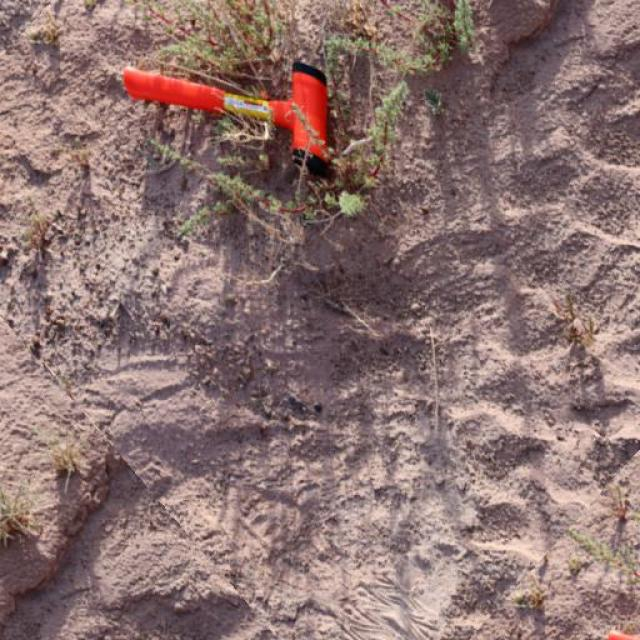mallet: (119, 59, 334, 178)
